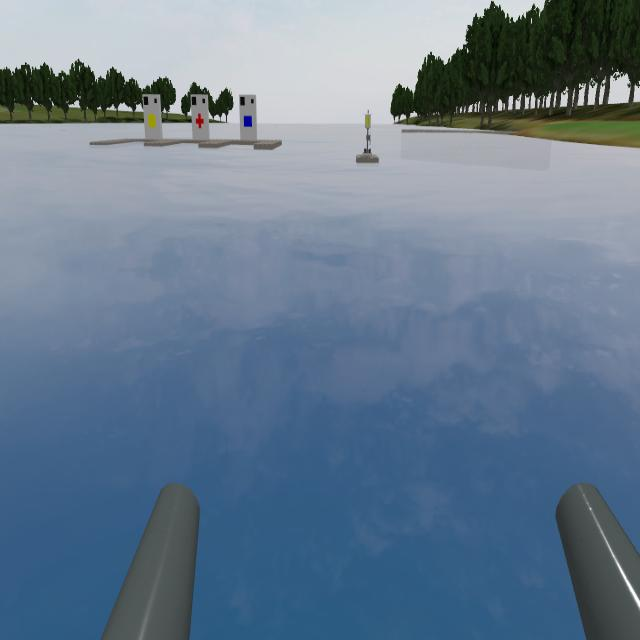yellow_pole: (362, 104, 376, 134)
